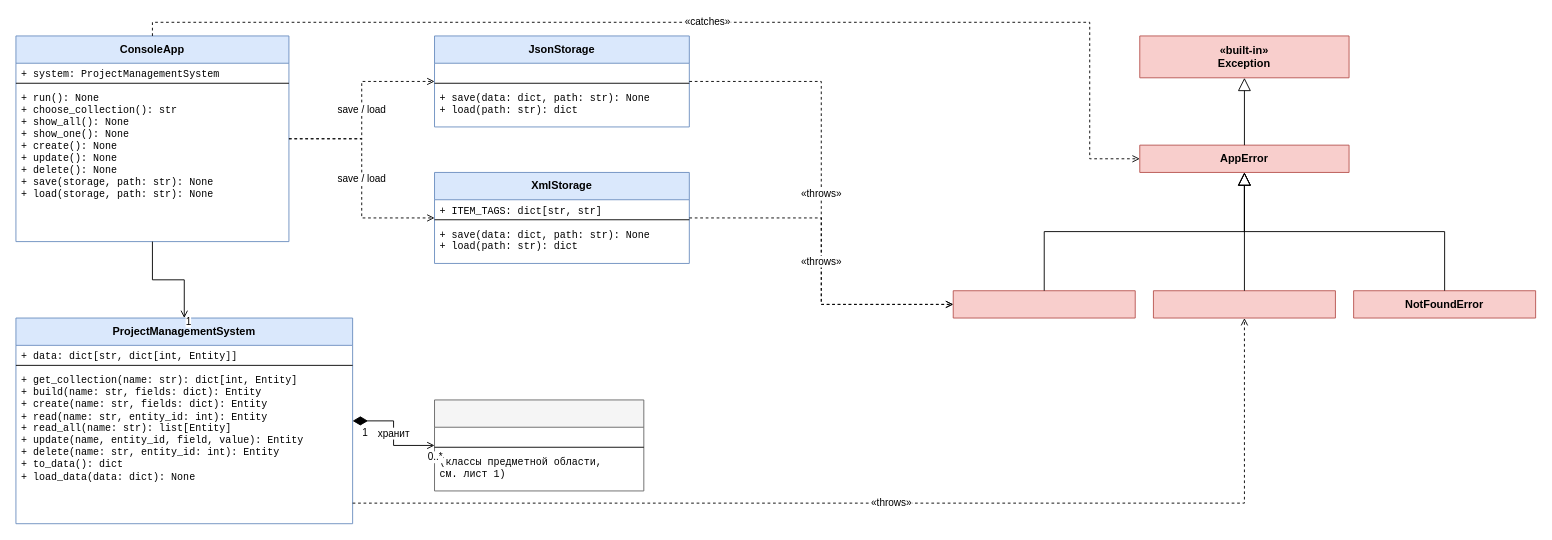
This 1552x540 diagram has some shape labels left out. Each missing label, with the box of its shape:
Entity: (434, 399, 644, 491)
StorageError: (952, 290, 1135, 318)
ValidationError: (1153, 290, 1335, 318)
